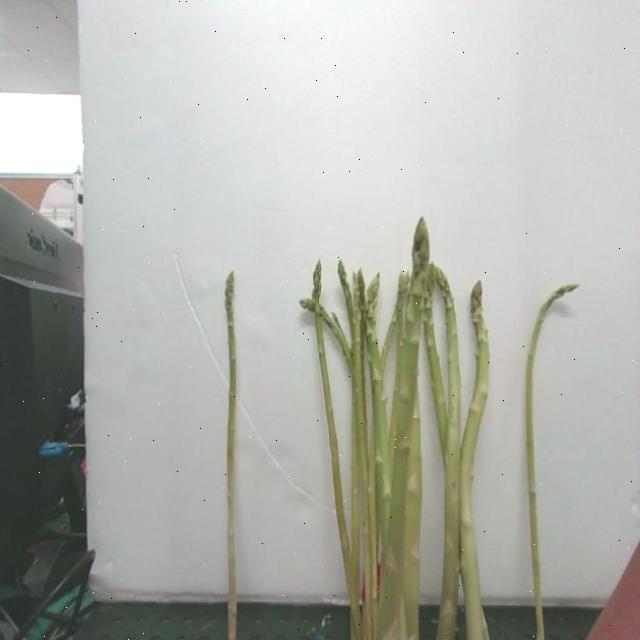aspargus: (222, 273, 238, 575)
